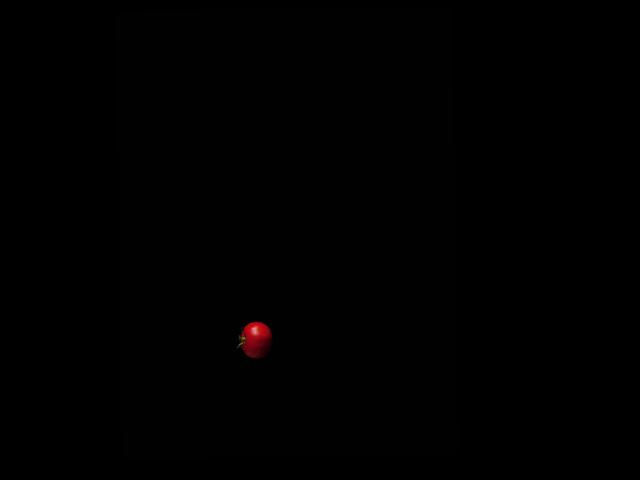tomato: (240, 321, 272, 358)
